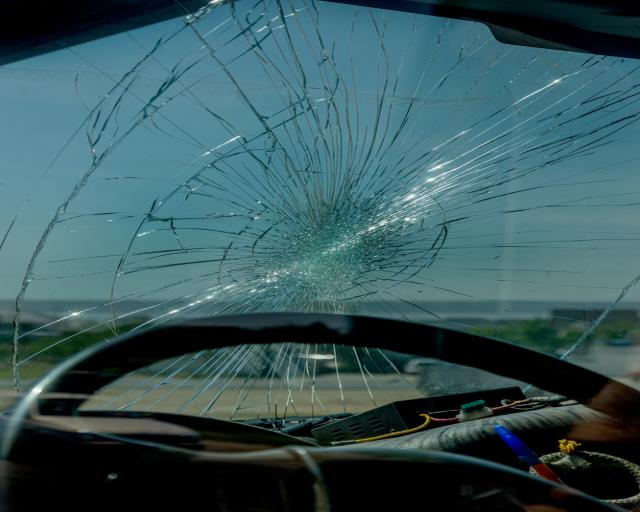glass shatter: (0, 0, 640, 421)
